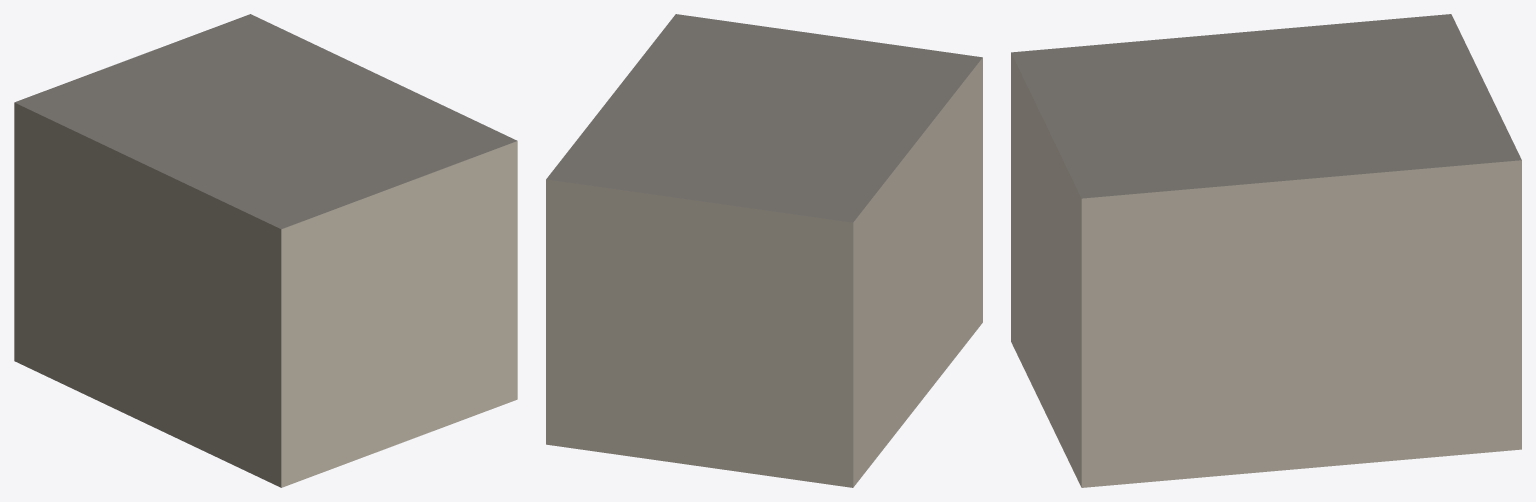
3 renders of one model, left to right at view 1: azimuth 30°, elevation 25°; view 2: azimuth 150°, elevation 25°; view 3: azimuth 270°, elevation 25°, orthographic. The views are drawn at different scales.
Parts seen in each view (by area): view 1: HP-w378107181; view 2: HP-w378107181; view 3: HP-w378107181.
Boxes of the visible parts, x1=… form: HP-w378107181: x1=14, y1=14, x2=517, y2=487; HP-w378107181: x1=546, y1=14, x2=982, y2=487; HP-w378107181: x1=1011, y1=14, x2=1521, y2=487.
Size of the model in its own units: 20.52 by 15 by 24.
